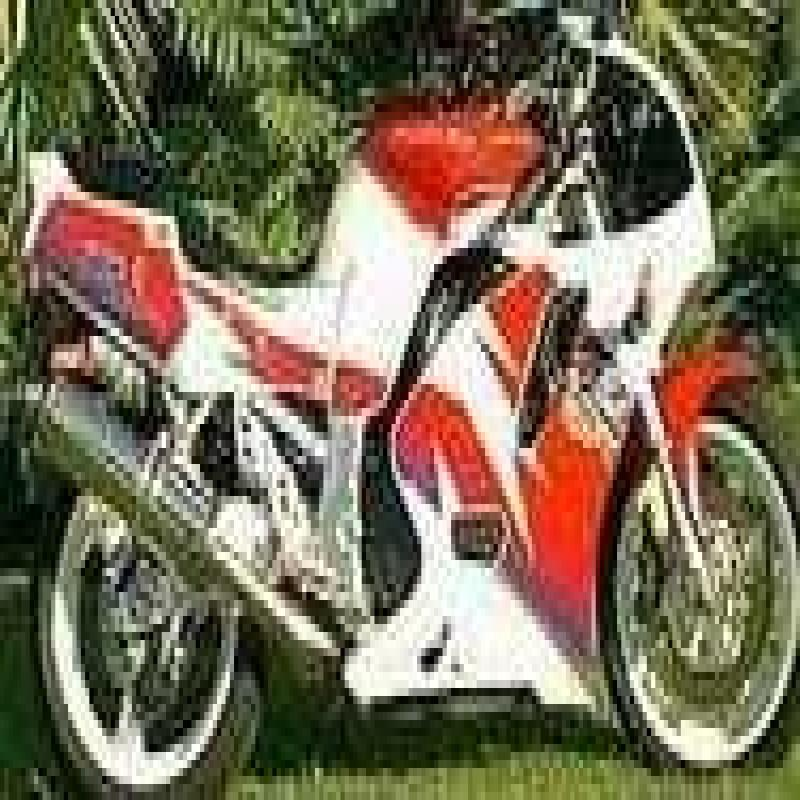bike: (14, 14, 798, 800)
